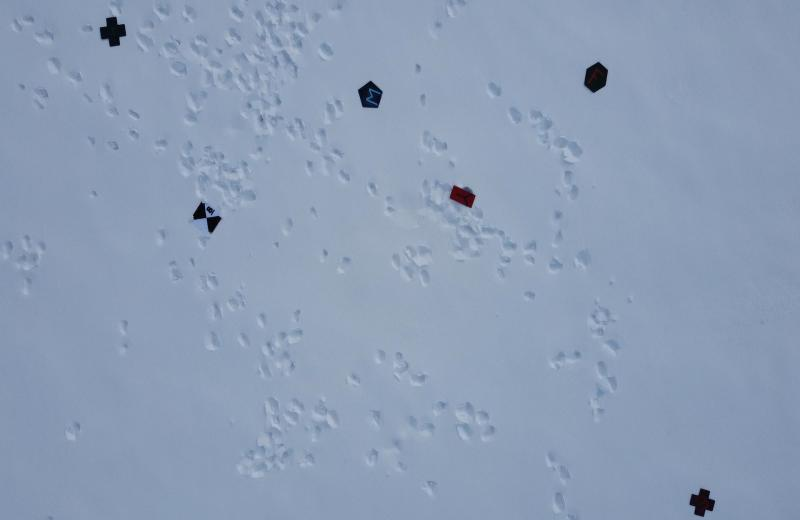Cross: (96, 15, 128, 50), (688, 486, 717, 517)
Hexagon: (581, 59, 611, 95)
Pentagon: (355, 79, 384, 114)
Rectangle: (446, 180, 479, 210)
